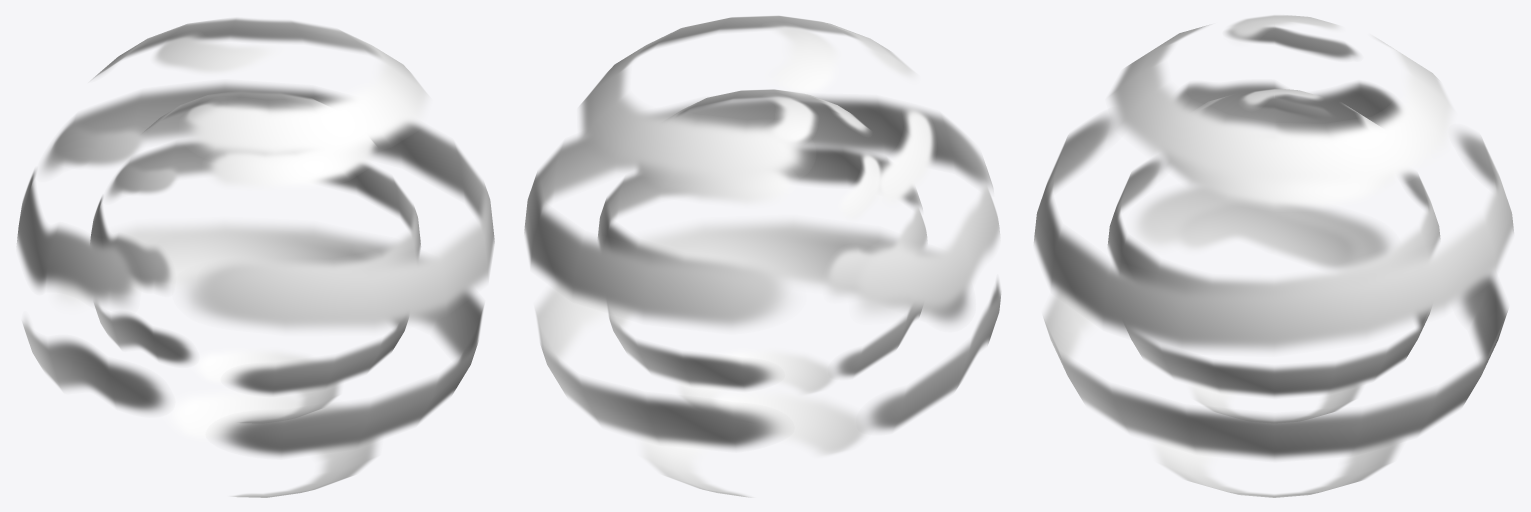
Rendered from bul.glb.
3 views of the same model, side by side, from view 1: azimuth 30°, elevation 25°; view 2: azimuth 150°, elevation 25°; view 3: azimuth 270°, elevation 25° (orthographic).
Visible parts, largest first — view 1: SphereTop, Sphere; view 2: SphereTop, Sphere; view 3: SphereTop, Sphere.
Boxes of the visible parts, x1,y1,x2,y2 form: SphereTop: (17,18,494,497); Sphere: (90,91,420,423); SphereTop: (524,15,1001,497); Sphere: (597,89,927,410); SphereTop: (1034,15,1513,497); Sphere: (1107,89,1440,422).
Size of the model in its own units: 1.06 by 1.06 by 1.06.
Materials: 1 (1 with a texture image).
